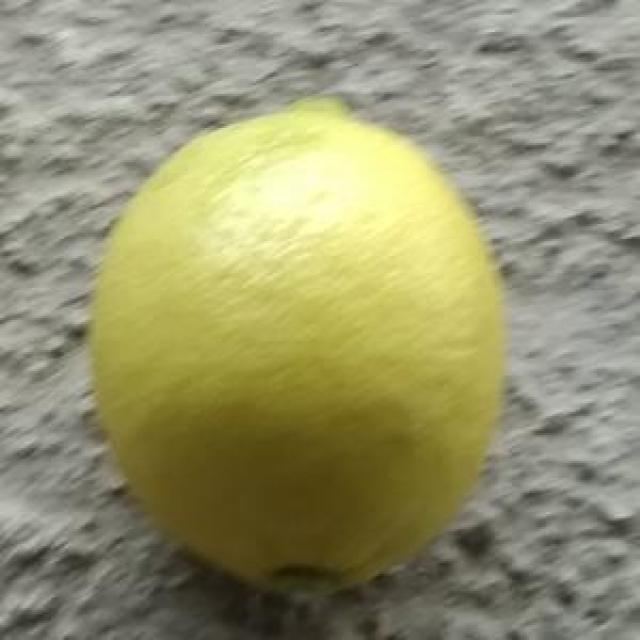lemon: (93, 102, 502, 600)
